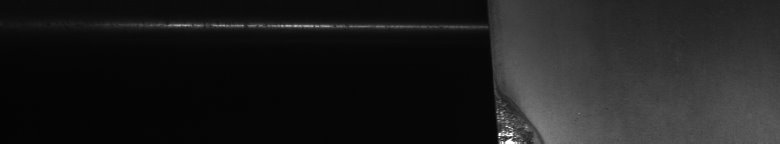hb: (508, 90, 547, 136)
